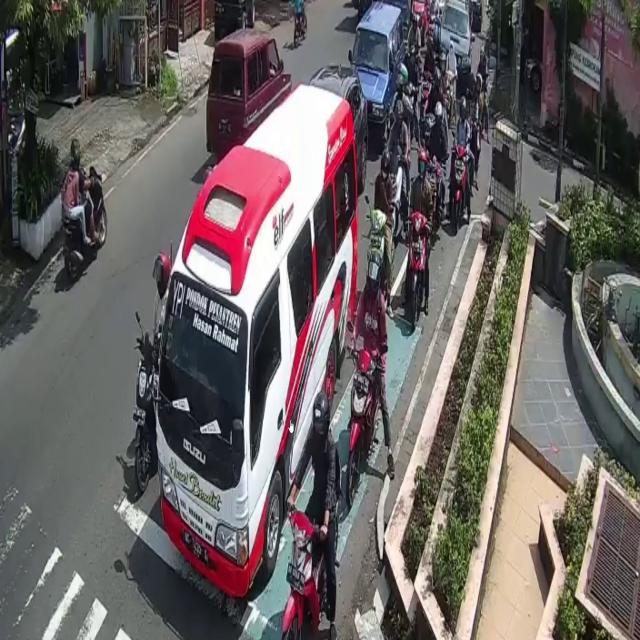bus: (285, 501, 332, 640), (65, 163, 106, 285), (349, 347, 380, 502), (134, 344, 159, 492), (363, 209, 390, 312), (409, 216, 427, 329), (452, 143, 468, 227)
car: (157, 82, 358, 594)
motorcycle: (205, 31, 291, 154), (351, 0, 407, 144), (312, 62, 370, 184), (438, 0, 474, 94)
